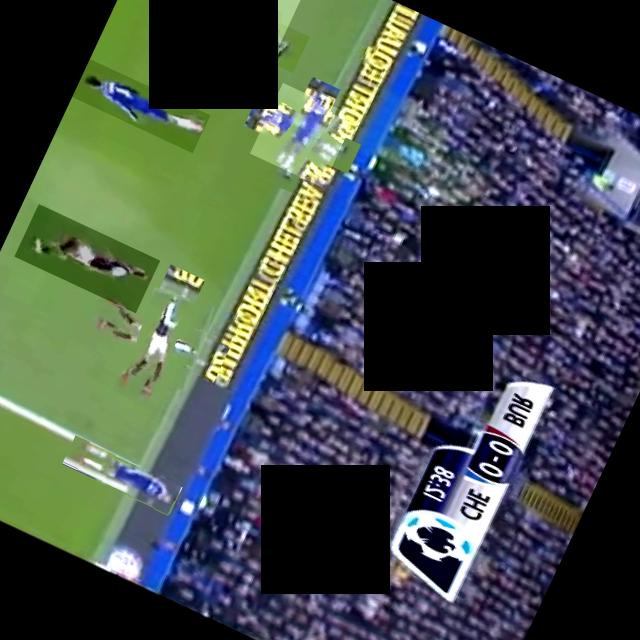ball: (157, 0, 301, 93)
soccer-player: (13, 204, 159, 313), (94, 273, 220, 398), (71, 59, 209, 153), (249, 82, 354, 188), (60, 436, 182, 515)
